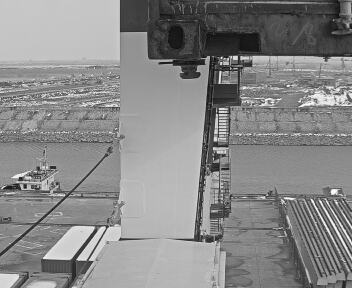twist_lock_1: (164, 54, 212, 89)
